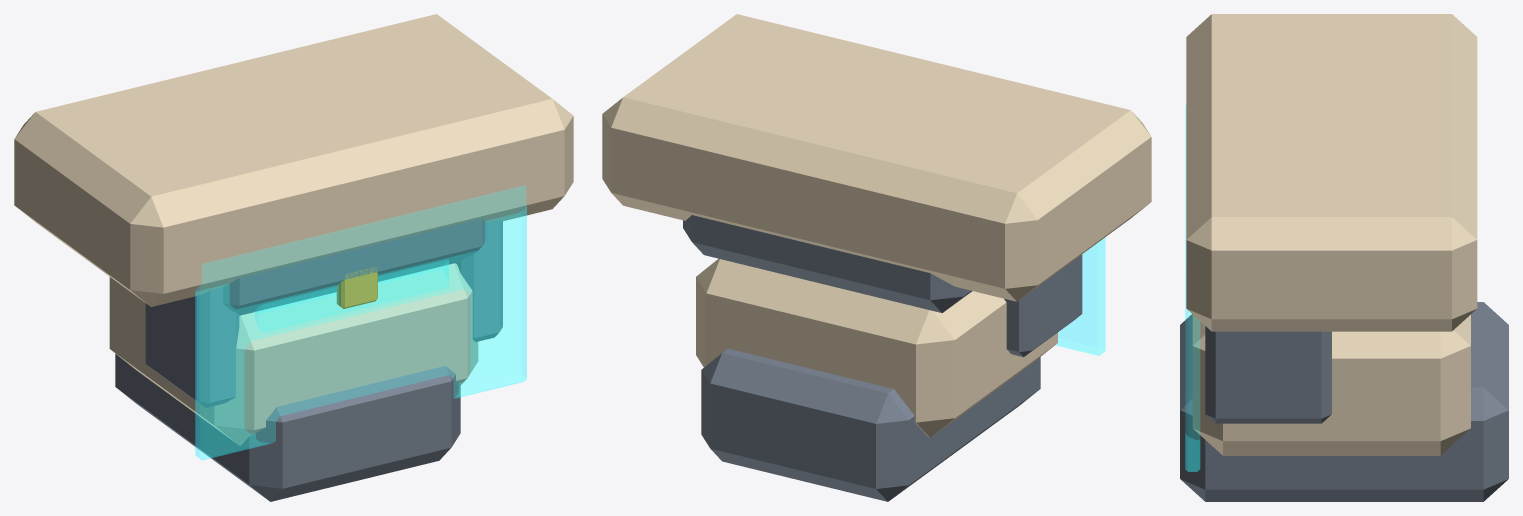
The model's file is Module_HoloSight_v001.fbx.
3 views of the same model, side by side, from view 1: azimuth 30°, elevation 25°; view 2: azimuth 150°, elevation 25°; view 3: azimuth 270°, elevation 25° (orthographic). The views are drawn at different scales.
Parts seen in each view (by area): view 1: Module_HoloSight__RECEIVER_MESH; view 2: Module_HoloSight__RECEIVER_MESH; view 3: Module_HoloSight__RECEIVER_MESH.
Part boxes in pixels (x1=…): Module_HoloSight__RECEIVER_MESH: x1=14, y1=14, x2=573, y2=501; Module_HoloSight__RECEIVER_MESH: x1=602, y1=14, x2=1151, y2=501; Module_HoloSight__RECEIVER_MESH: x1=1180, y1=14, x2=1508, y2=501.
Bounding box in the file's own units: 0.42 × 0.3 × 0.26.
